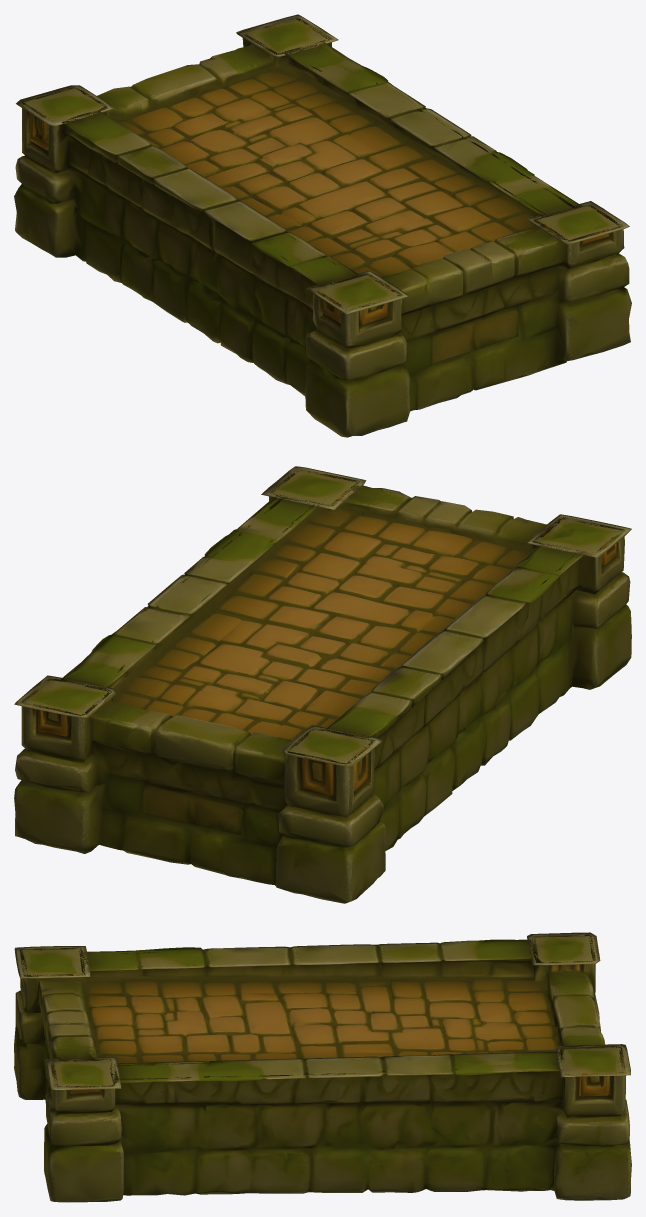
Rendered from path_open.glb.
The picture shows the model from 3 angles, top to bottom: view 1: azimuth 30°, elevation 25°; view 2: azimuth 150°, elevation 25°; view 3: azimuth 270°, elevation 25°; orthographic projection. The views are drawn at different scales.
Parts seen in each view (by area): view 1: path_mesh; view 2: path_mesh; view 3: path_mesh.
Boxes of the visible parts, x1,y1,x2,y2 form: path_mesh: (14,14,631,437); path_mesh: (14,466,631,903); path_mesh: (14,932,631,1202).
Size of the model in its own units: 0.6252 by 0.2453 by 1.03.
1 material, 1 textured.
